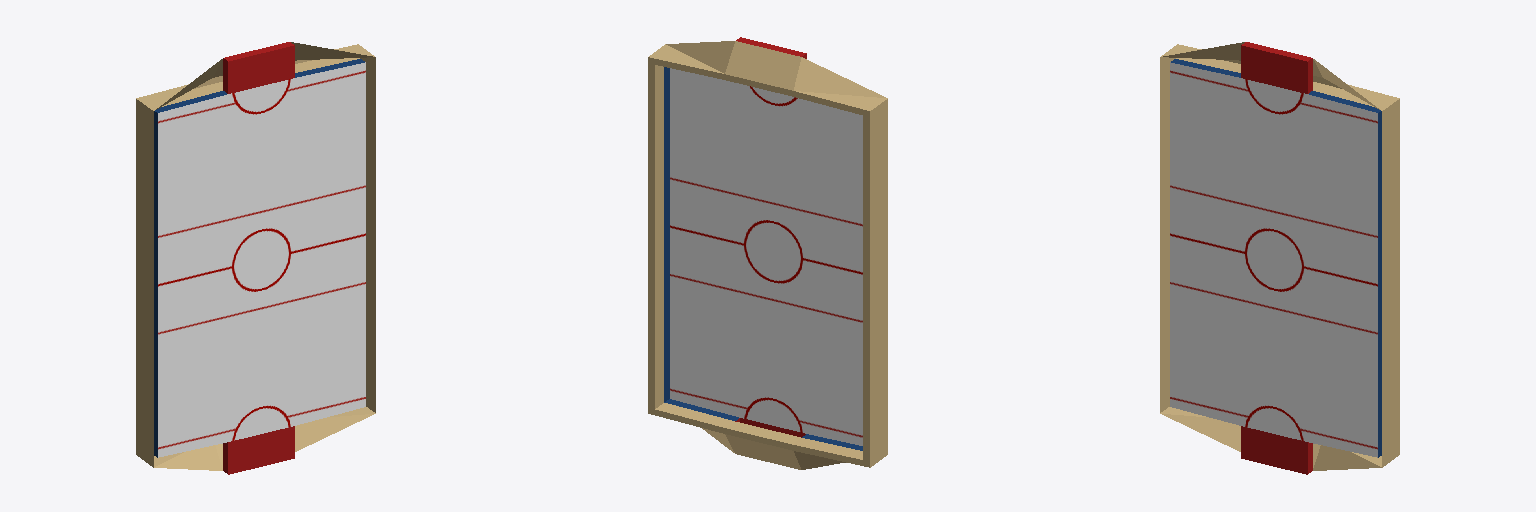
3 renders of one model, left to right at view 1: azimuth 30°, elevation 25°; view 2: azimuth 150°, elevation 25°; view 3: azimuth 330°, elevation 25°, orthographic.
Visible parts, largest first — view 1: Rink; view 2: Rink; view 3: Rink.
Boxes of the visible parts, x1=… form: Rink: x1=136, y1=42, x2=375, y2=474; Rink: x1=648, y1=37, x2=887, y2=469; Rink: x1=1160, y1=42, x2=1399, y2=474.
Size of the model in its own units: 9.1 by 16.17 by 1.26.
4 materials, 1 textured.